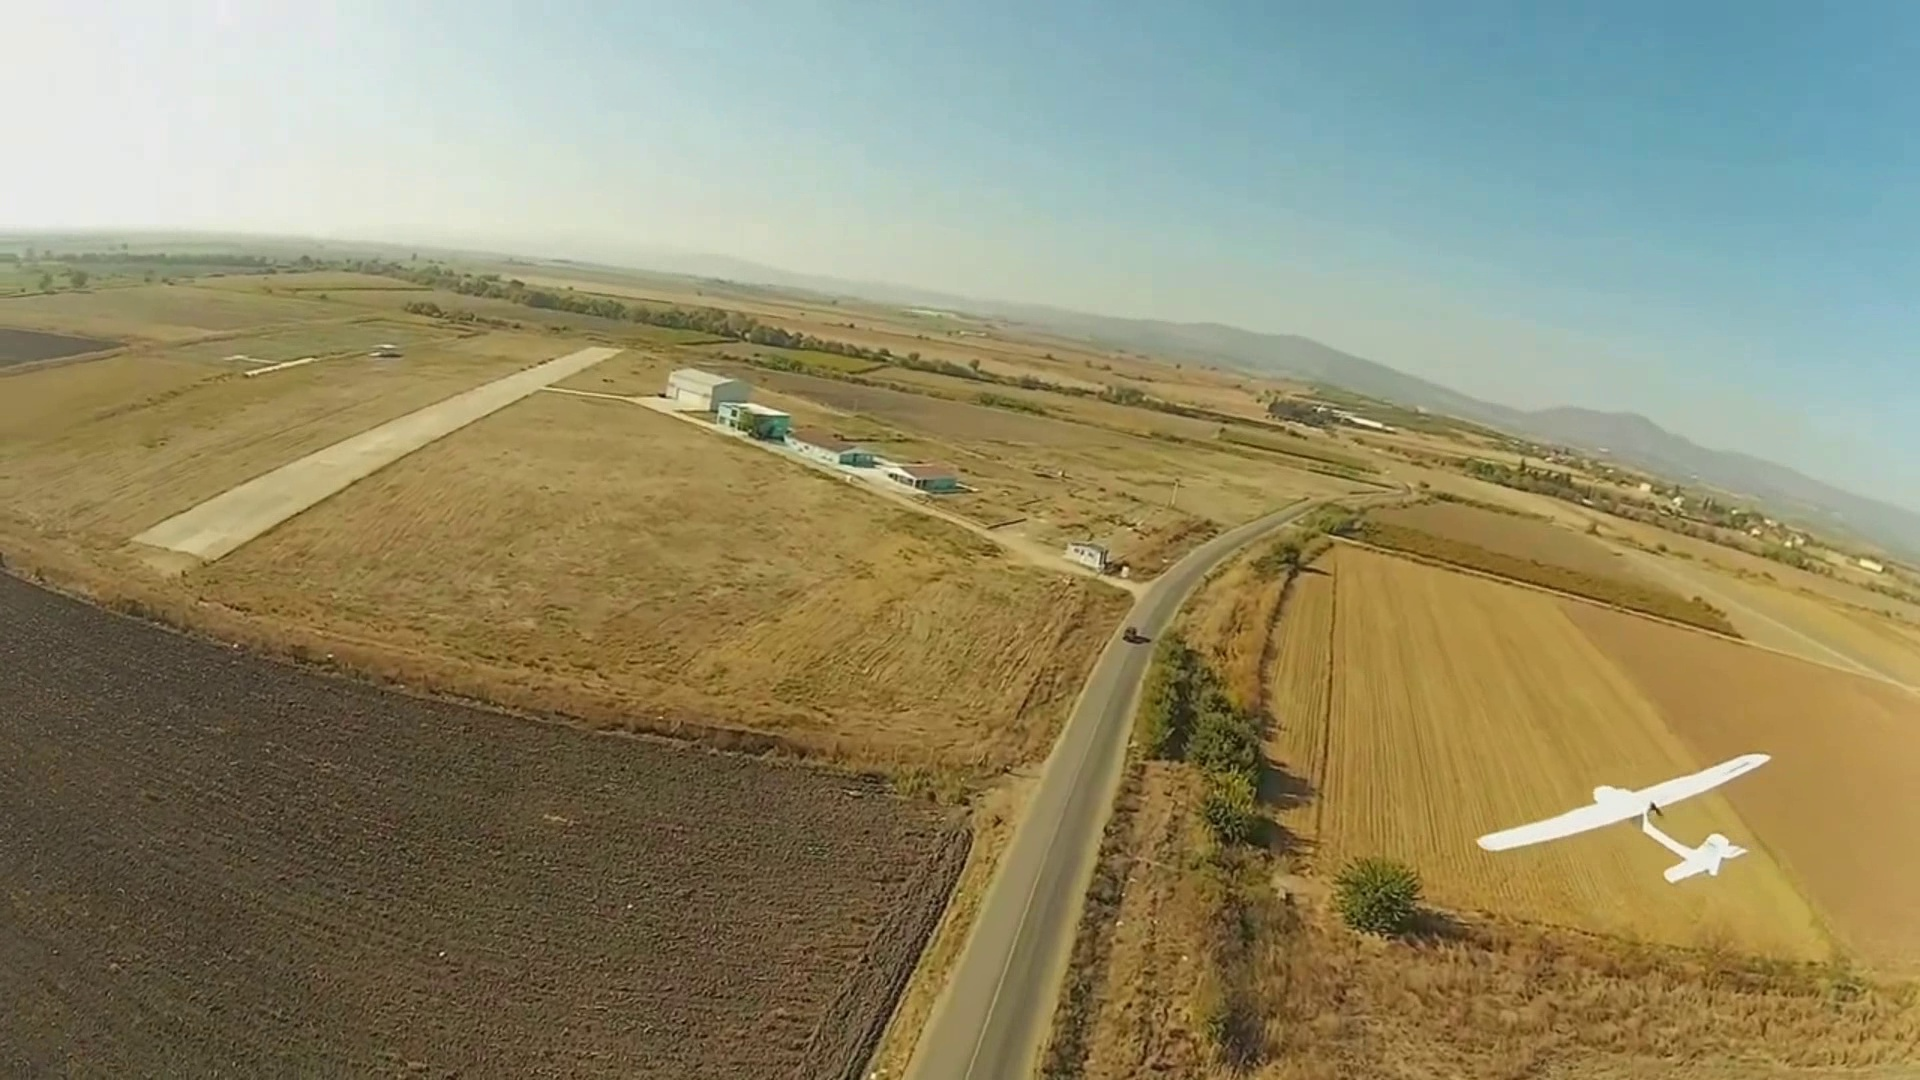airplane: (1477, 752, 1771, 885)
